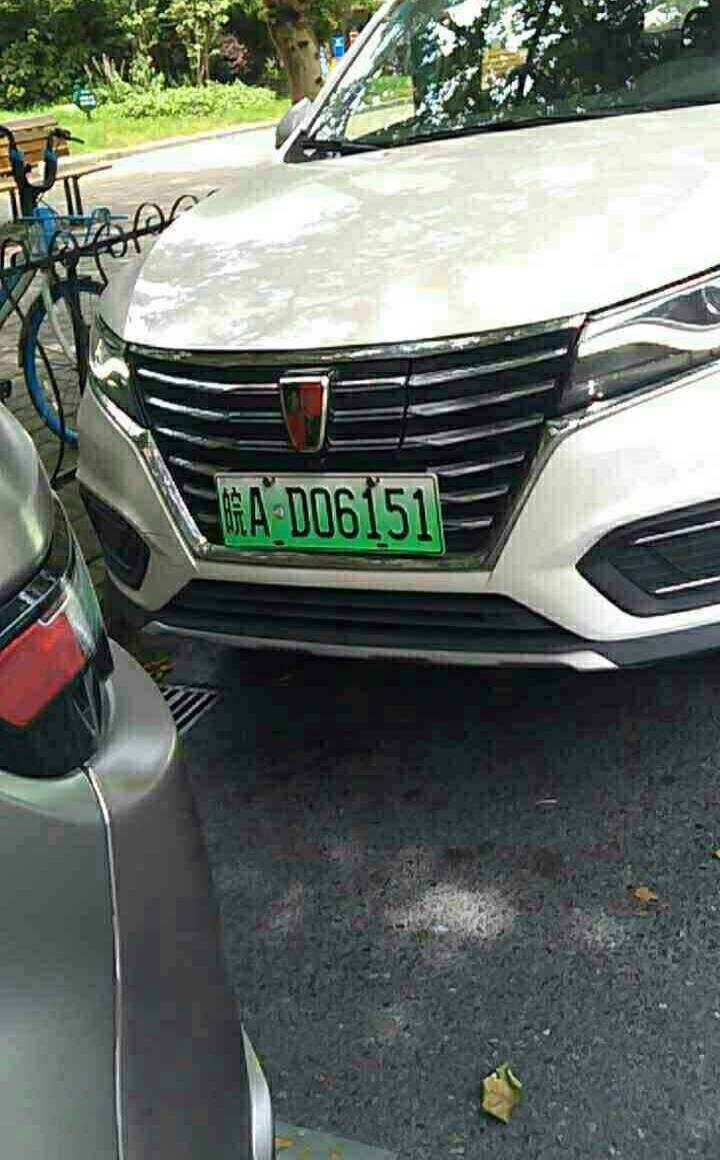car_id: (218, 476, 451, 553)
